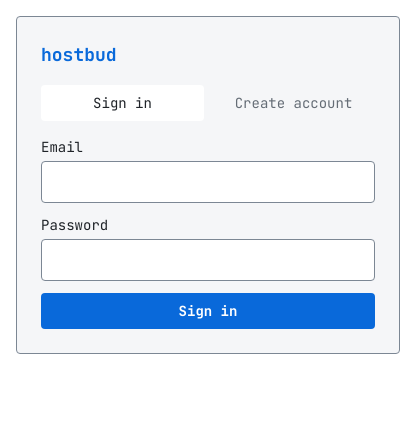
Test case: AuthView › shows a connection error when sign-in cannot reach the server
Type "person@example.com" into the field labelled "Email". click: (208,182)
box: [41,161,375,203]
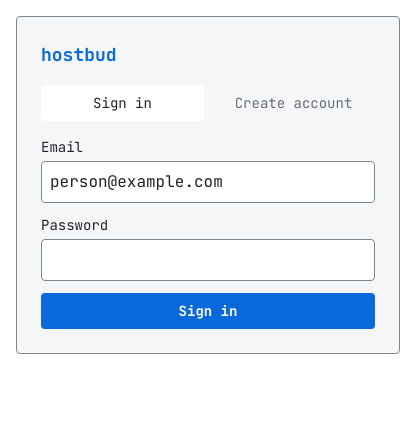
Type "correct horse battery" into the password field labelled "Password". click: (208,260)
box: [41,239,375,281]
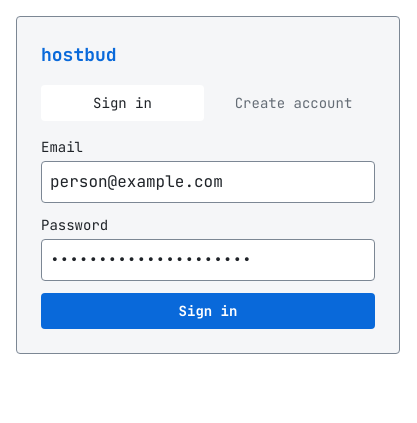
Submit the form, box [41,137,375,329]
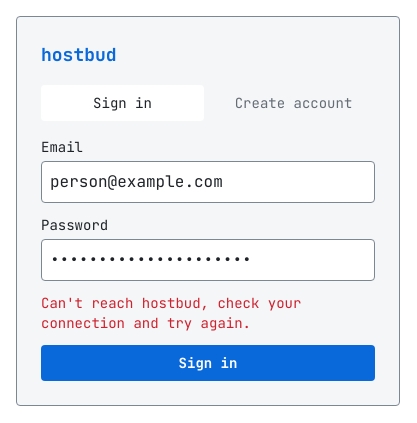
Result: the message "Can't reach hostbud, check your connection and try again." is shown at [41,294,301,332]
